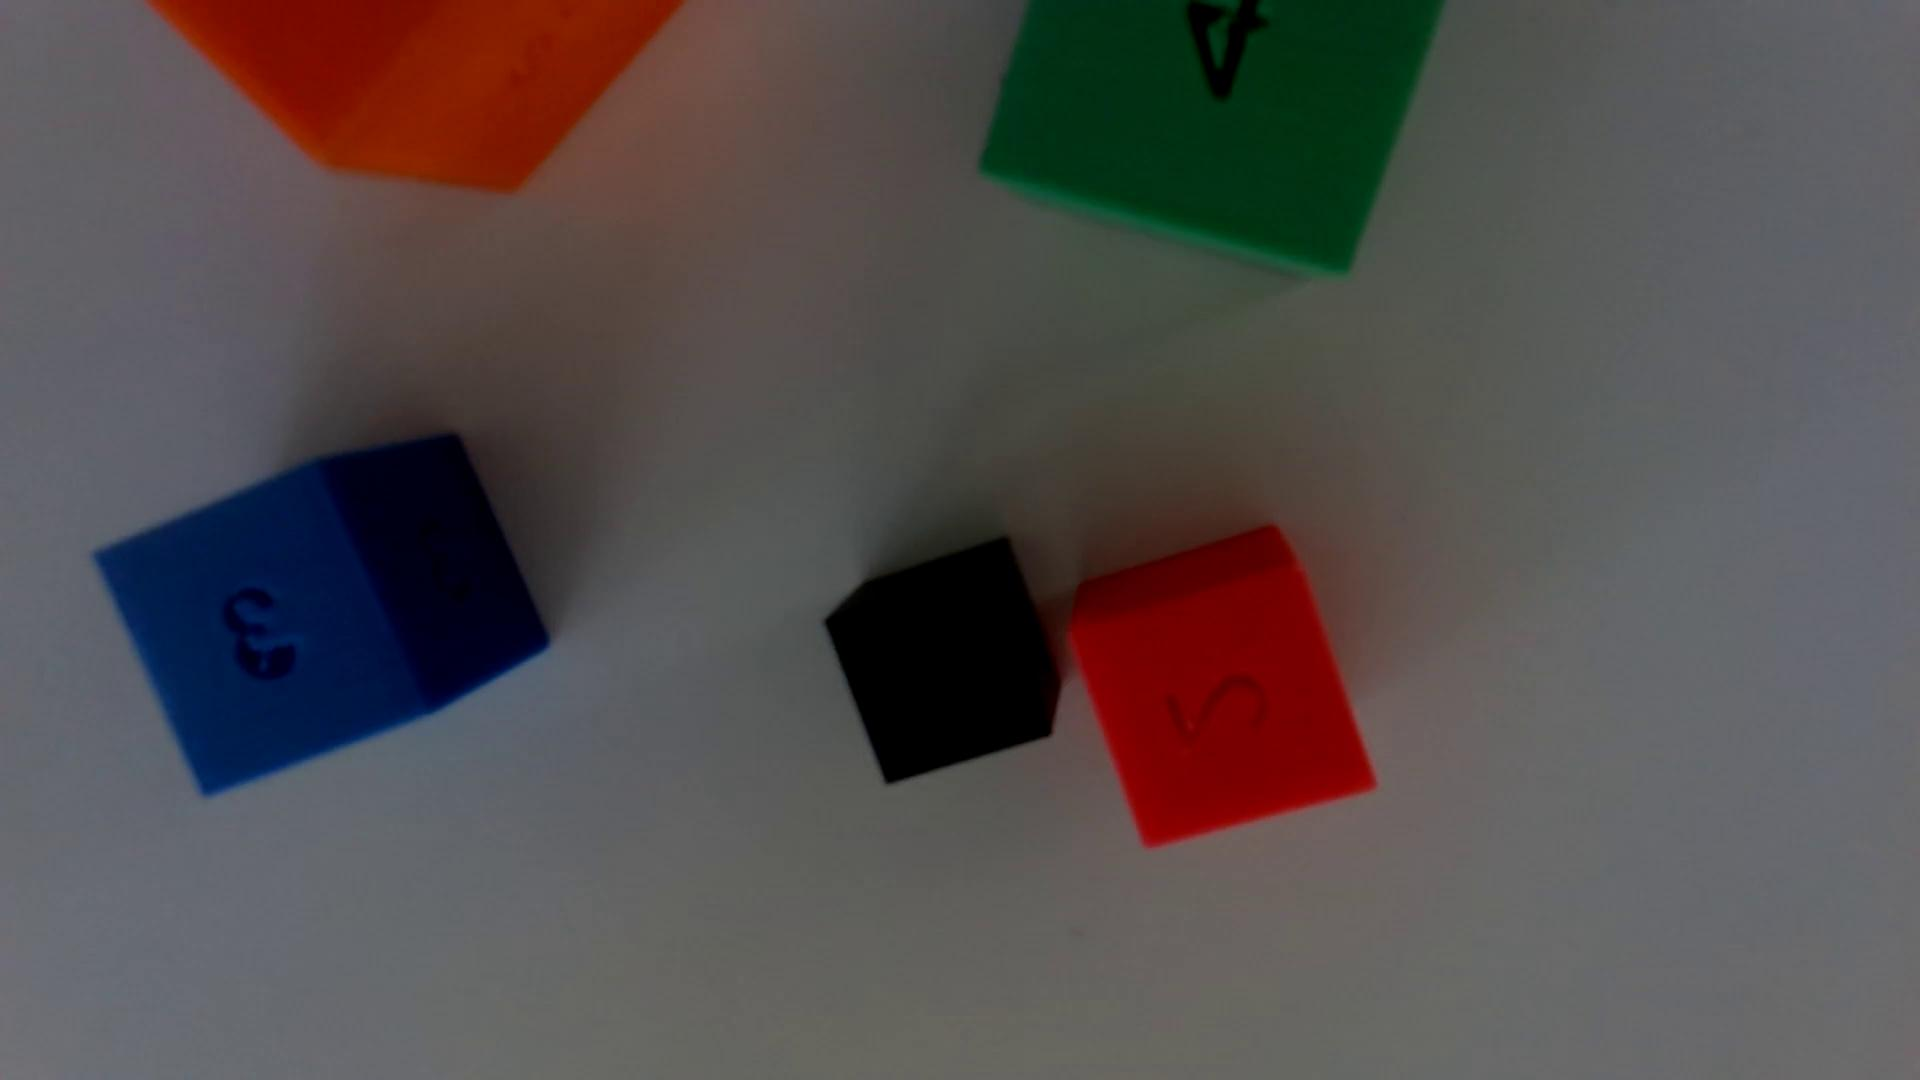black: (825, 538, 1060, 782)
blue: (96, 434, 549, 794)
green: (980, 0, 1443, 274)
orange: (152, 0, 680, 190)
red: (1069, 525, 1375, 847)
